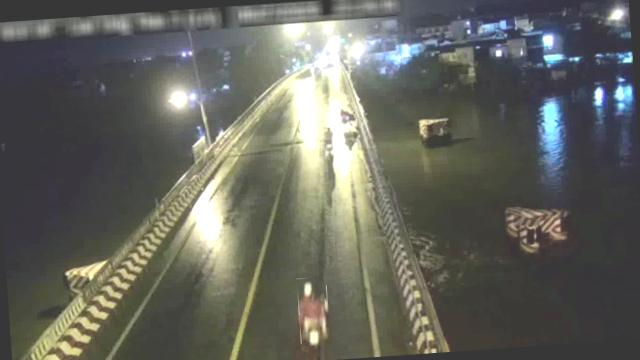Bike: (296, 276, 331, 352), (320, 127, 335, 160)
Truck: (338, 103, 356, 127)
